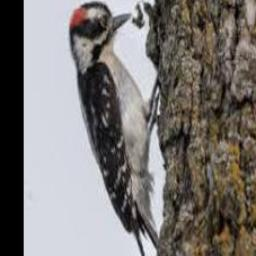Woodpecker: (68, 1, 160, 256)
